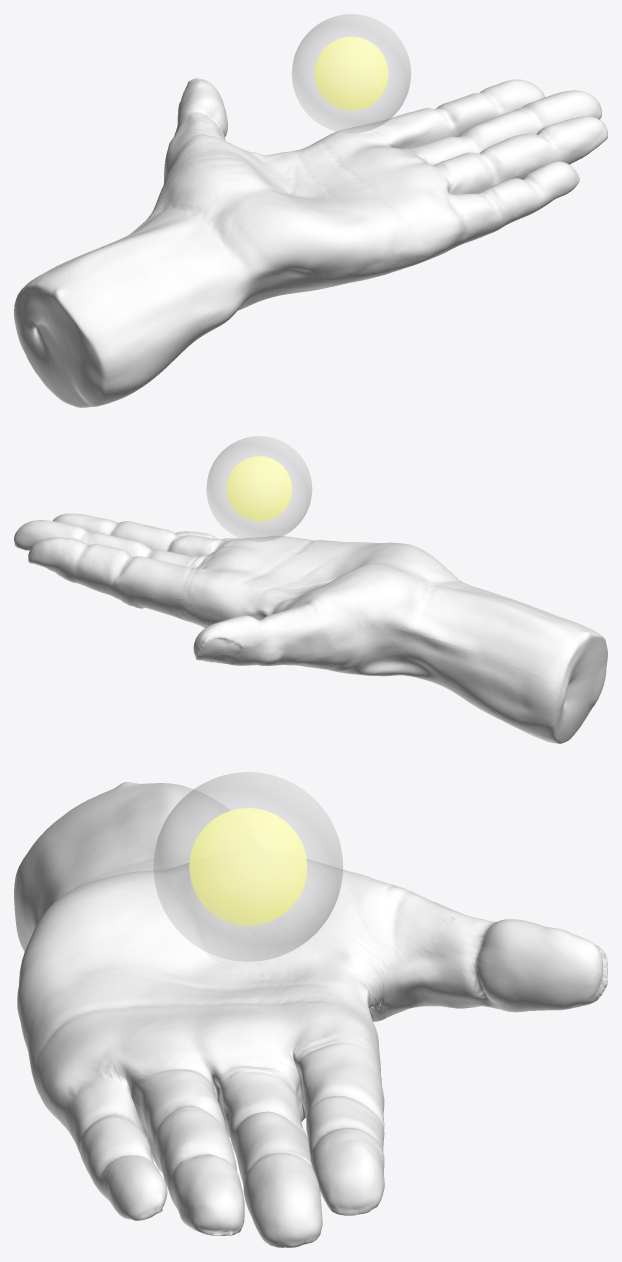
Rendered from HandRainbowHand.gltf.
3 renders of one model, top to bottom at view 1: azimuth 30°, elevation 25°; view 2: azimuth 150°, elevation 25°; view 3: azimuth 270°, elevation 25°, orthographic. The views are drawn at different scales.
Visible parts, largest first — view 1: Group11720, Glass Sphere, Glow Sphere; view 2: Group11720, Glass Sphere, Glow Sphere; view 3: Group11720, Glass Sphere, Glow Sphere.
Boxes of the visible parts, left/top/right/bottom form: Group11720: left=14, top=78, right=607, bottom=407; Glass Sphere: left=292, top=14, right=410, bottom=133; Glow Sphere: left=314, top=36, right=388, bottom=110; Group11720: left=14, top=513, right=607, bottom=743; Glass Sphere: left=206, top=436, right=311, bottom=541; Glow Sphere: left=226, top=456, right=291, bottom=521; Group11720: left=14, top=782, right=607, bottom=1247; Glass Sphere: left=153, top=772, right=342, bottom=961; Glow Sphere: left=189, top=808, right=306, bottom=925.
Bounding box in the file's own units: 0.3315 × 0.1484 × 0.1786.
3 materials, 1 textured.
